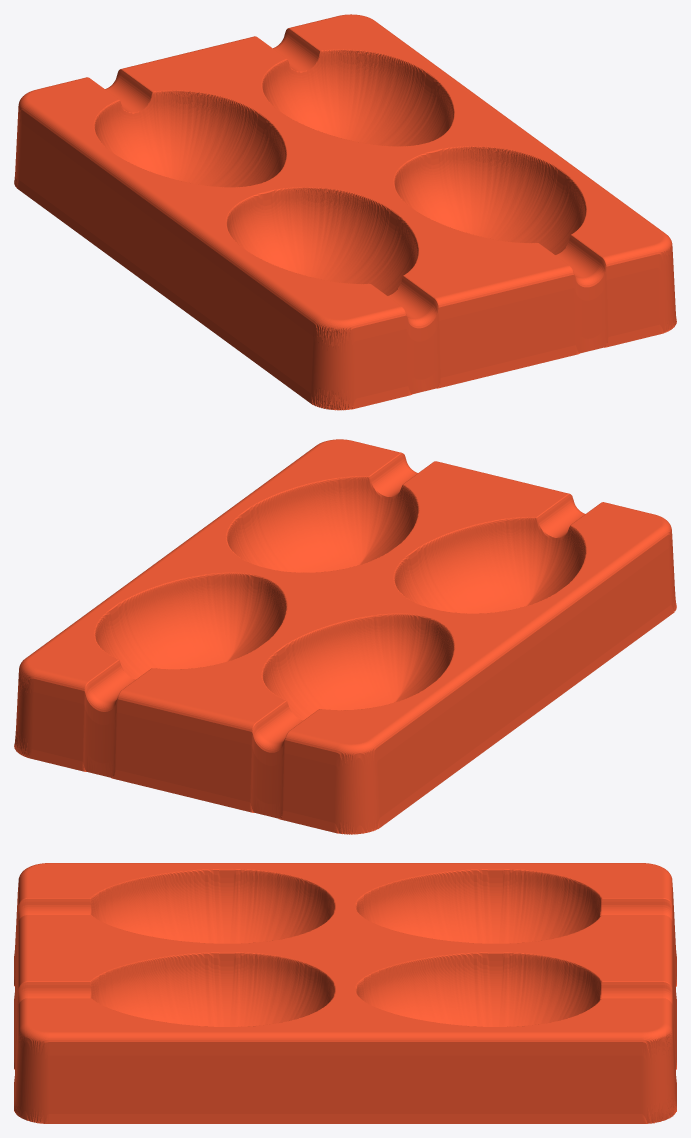
File: mold.glb
The picture shows the model from 3 angles, top to bottom: view 1: azimuth 30°, elevation 25°; view 2: azimuth 150°, elevation 25°; view 3: azimuth 270°, elevation 25°; orthographic projection.
Visible parts, largest first — view 1: geometry_0; view 2: geometry_0; view 3: geometry_0.
Part boxes in pixels (x1,y1,x2,y2): geometry_0: (14,14,676,410); geometry_0: (14,439,676,834); geometry_0: (14,863,676,1123).
Bounding box in the file's own units: 0.1098 × 0.0245 × 0.171.
